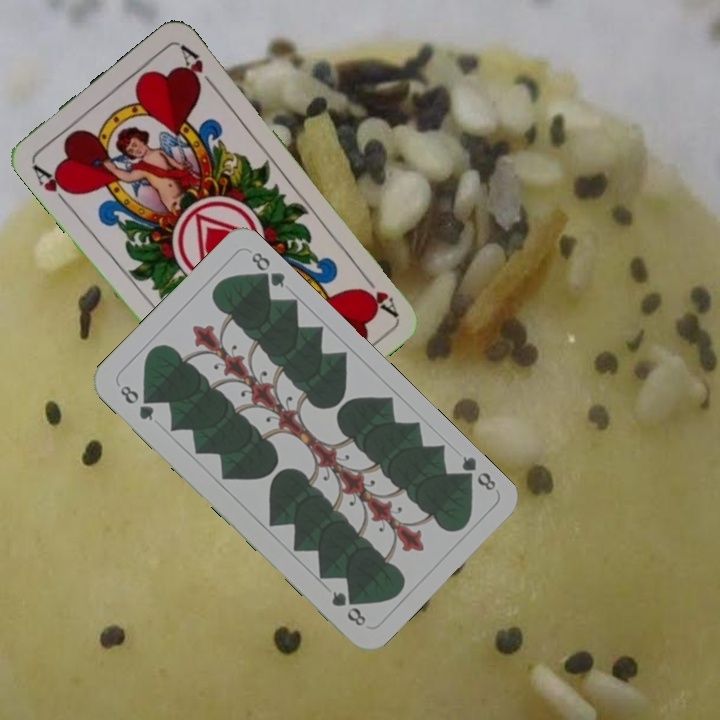G8: (454, 451, 499, 494), (115, 381, 157, 424)
HA: (28, 160, 76, 208), (356, 268, 400, 319)
